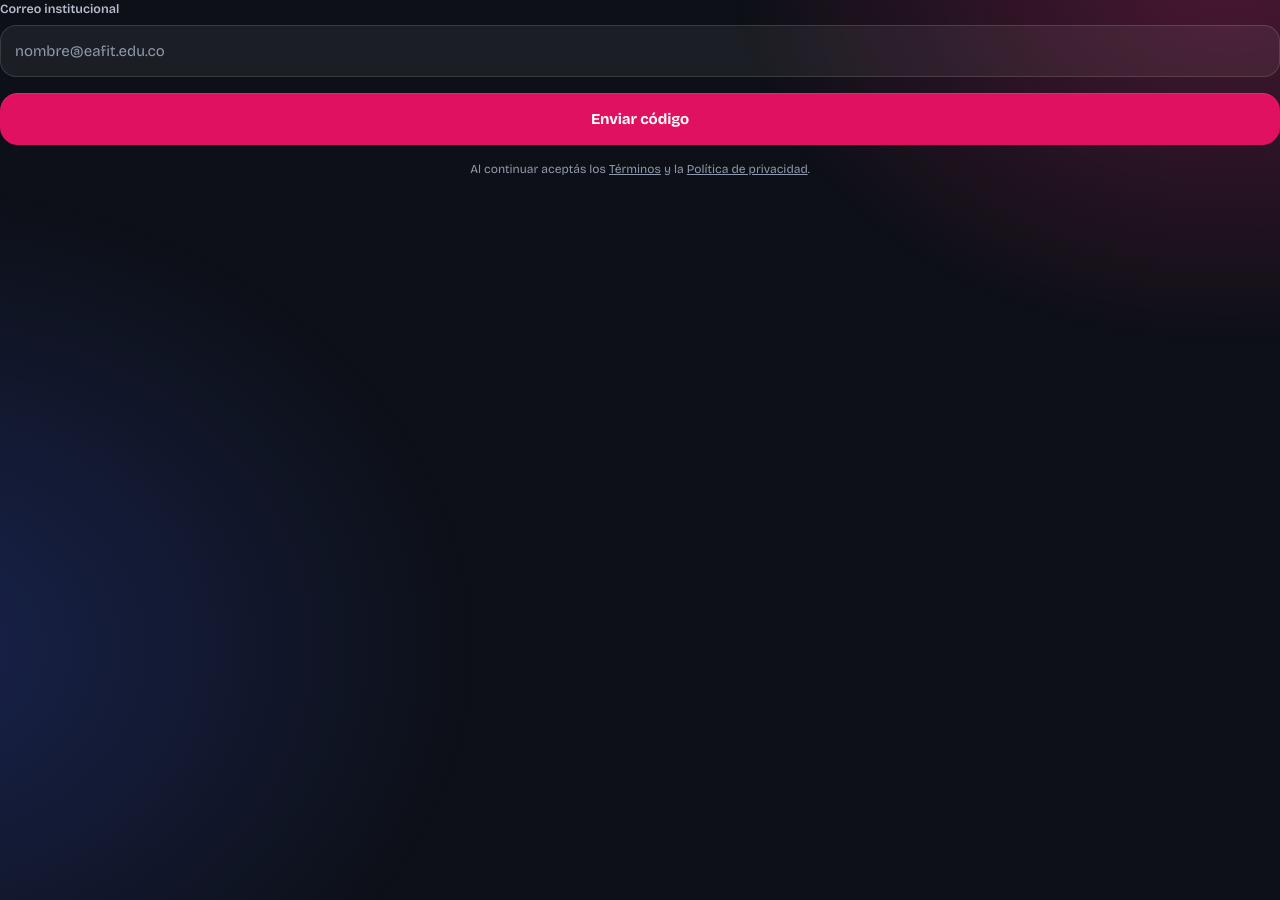
EmailEntryForm › offers the waitlist when the university is not supported yet
Type "emaya@correo.iue.edu.co" into the field labelled "Correo institucional" at (640, 51), box [0, 25, 1279, 77]
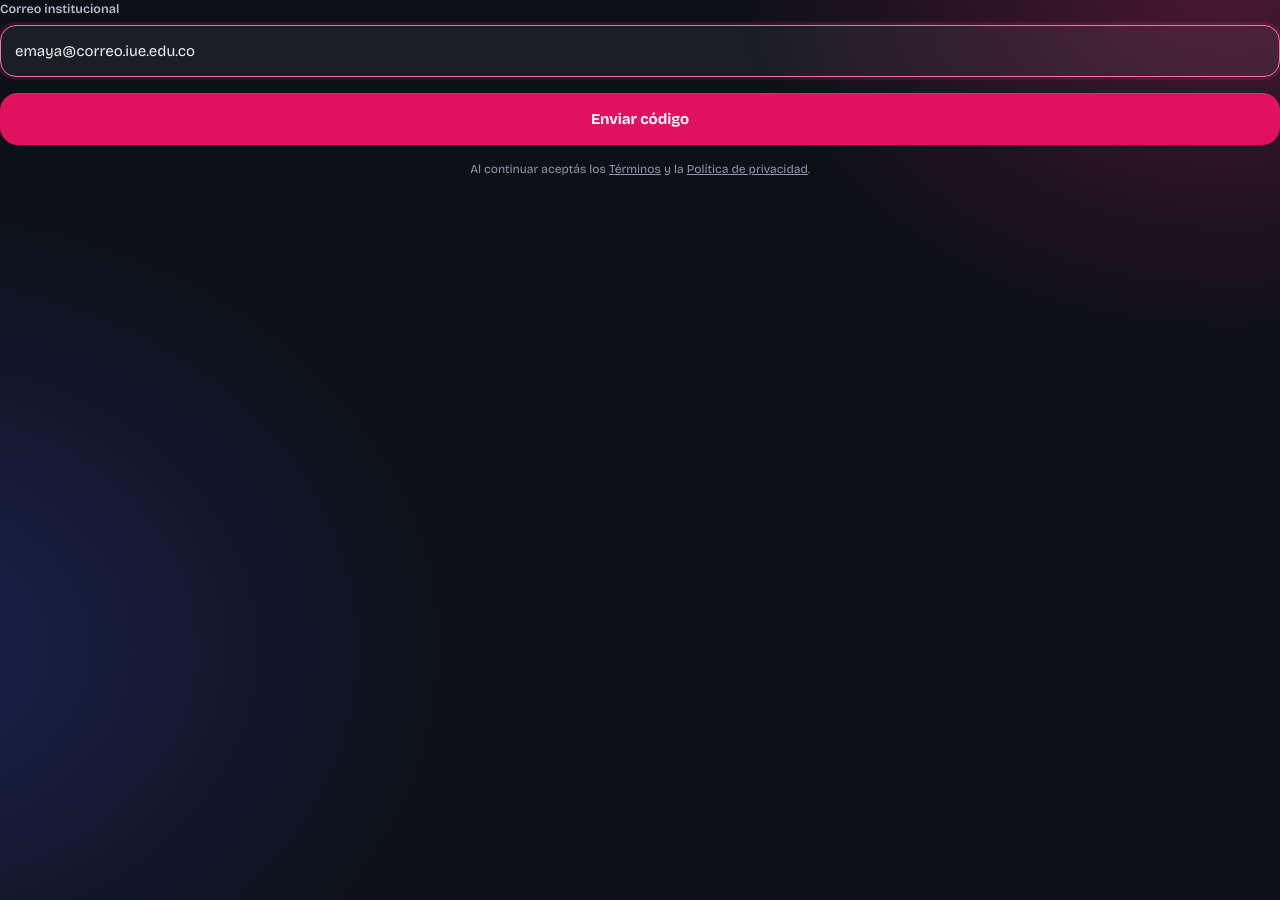
Click the button "Enviar código" at (640, 119), box [0, 93, 1279, 145]
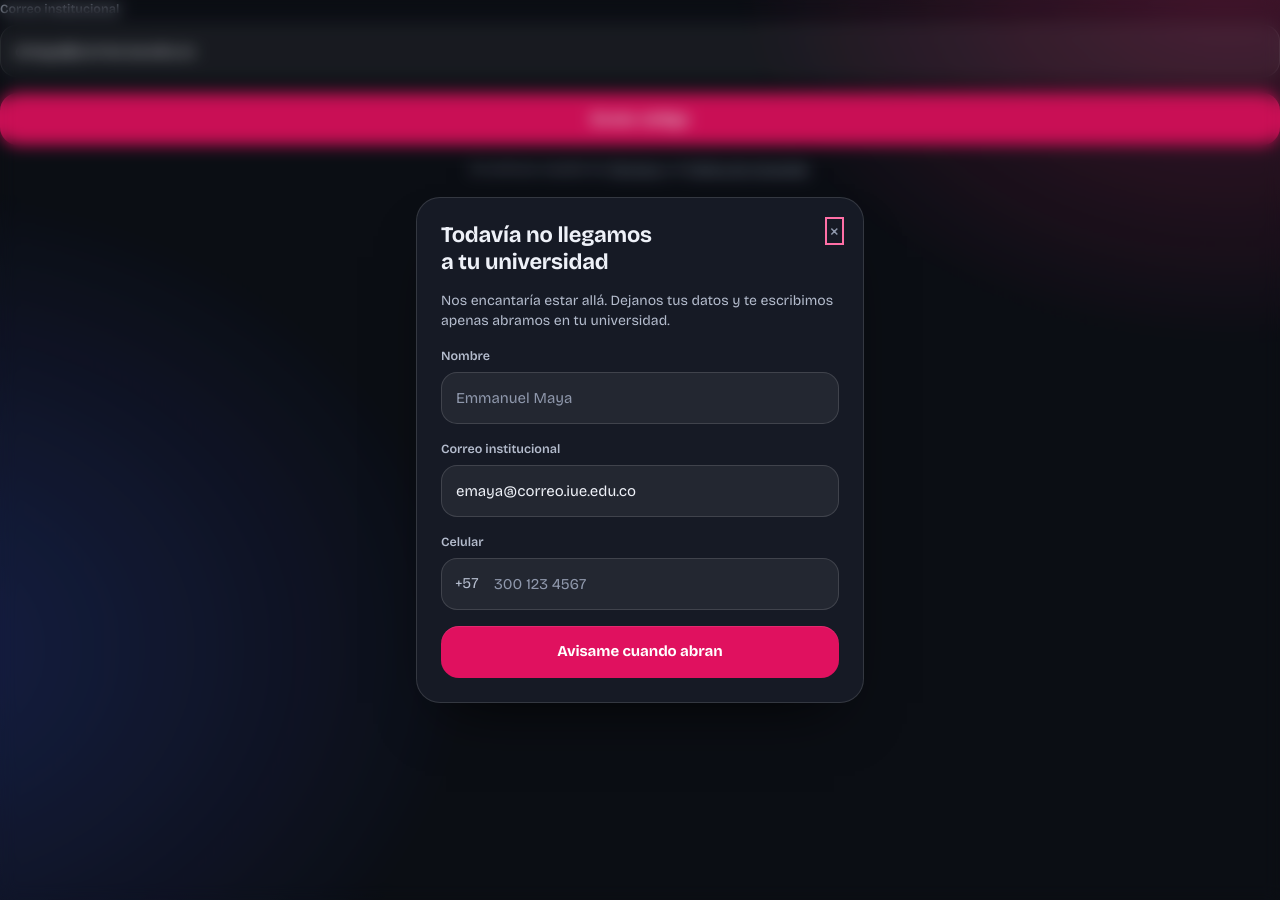
Expected: the number of fields showing "emaya@correo.iue.edu.co" is 2, [0, 25, 1279, 77]; [441, 465, 839, 517]
Result: the field labelled "Celular" is shown at [441, 558, 839, 610]
